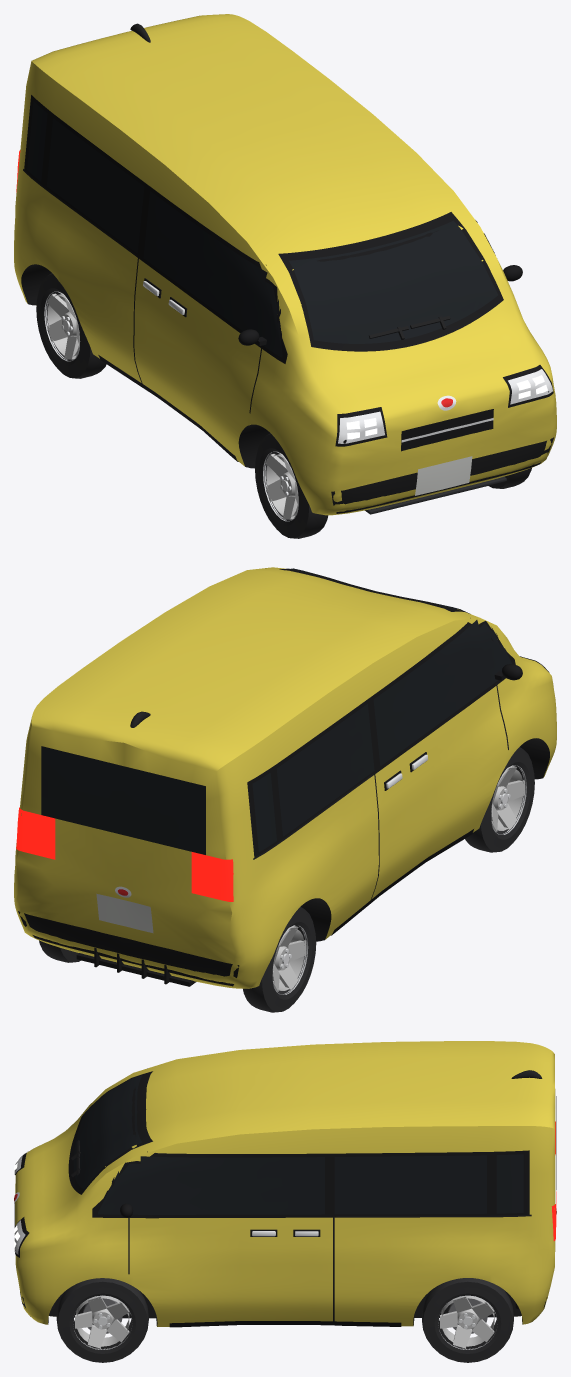
Rendered from tr_kei.glb.
3 views of the same model, one above another, from view 1: azimuth 30°, elevation 25°; view 2: azimuth 150°, elevation 25°; view 3: azimuth 270°, elevation 25° (orthographic). The views are drawn at different scales.
Parts seen in each view (by area): view 1: Body, Wheel_FR, Wheel_RR; view 2: Body, Wheel_RR, Wheel_FR; view 3: Body, Wheel_RL, Wheel_FL.
Boxes of the visible parts, box(x1,y1,x2,y2) form: Body: box(14, 14, 556, 515); Wheel_FR: box(255, 433, 328, 538); Wheel_RR: box(36, 273, 106, 378); Body: box(14, 567, 556, 988); Wheel_RR: box(243, 907, 316, 1012); Wheel_FR: box(465, 747, 534, 852); Body: box(14, 1041, 556, 1327); Wheel_RL: box(422, 1278, 513, 1362); Wheel_FL: box(56, 1278, 148, 1362).
Bounding box in the file's own units: 1.72 × 1.72 × 3.42.
